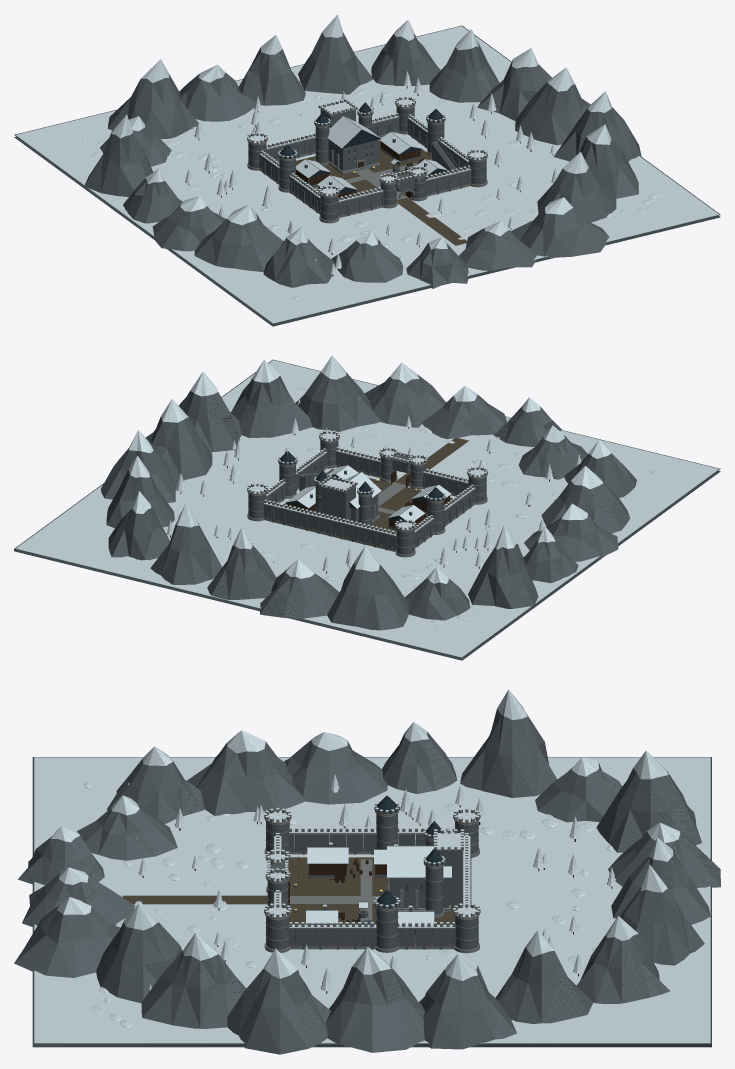
The model's file is winterfell_fortress_lod1.glb.
The picture shows the model from 3 angles, top to bottom: view 1: azimuth 30°, elevation 25°; view 2: azimuth 150°, elevation 25°; view 3: azimuth 270°, elevation 25°; orthographic projection. The views are drawn at different scales.
Visible parts, largest first — view 1: ENV_WF_AgedStone, ENV_WF_Snow, ENV_WF_CutStone, ENV_WF_FrozenGround, ENV_WF_Gravel, ENV_WF_SlateRoof, ENV_WF_WeatheredWood; view 2: ENV_WF_AgedStone, ENV_WF_Snow, ENV_WF_CutStone, ENV_WF_FrozenGround, ENV_WF_Gravel, ENV_WF_SlateRoof, ENV_WF_WeatheredWood; view 3: ENV_WF_AgedStone, ENV_WF_Snow, ENV_WF_CutStone, ENV_WF_Gravel, ENV_WF_FrozenGround, ENV_WF_WeatheredWood, ENV_WF_SlateRoof.
Boxes of the visible parts, x1,y1,x2,y2 form: ENV_WF_AgedStone: [84, 32, 641, 288]; ENV_WF_Snow: [16, 14, 718, 323]; ENV_WF_CutStone: [247, 97, 487, 223]; ENV_WF_FrozenGround: [14, 25, 720, 326]; ENV_WF_Gravel: [296, 140, 466, 245]; ENV_WF_SlateRoof: [278, 102, 447, 194]; ENV_WF_WeatheredWood: [188, 86, 553, 276]; ENV_WF_AgedStone: [101, 372, 636, 630]; ENV_WF_Snow: [16, 355, 718, 657]; ENV_WF_CutStone: [247, 431, 487, 557]; ENV_WF_FrozenGround: [14, 359, 720, 660]; ENV_WF_Gravel: [284, 438, 468, 532]; ENV_WF_SlateRoof: [278, 451, 449, 521]; ENV_WF_WeatheredWood: [170, 427, 549, 573]; ENV_WF_AgedStone: [14, 709, 720, 1054]; ENV_WF_Snow: [34, 689, 710, 1043]; ENV_WF_CutStone: [264, 802, 480, 953]; ENV_WF_Gravel: [122, 857, 454, 942]; ENV_WF_FrozenGround: [32, 757, 711, 1047]; ENV_WF_WeatheredWood: [142, 805, 612, 993]; ENV_WF_SlateRoof: [306, 795, 451, 923].
Size of the model in its own units: 240 by 35.08 by 239.
Materials: 11 (7 with a texture image).
